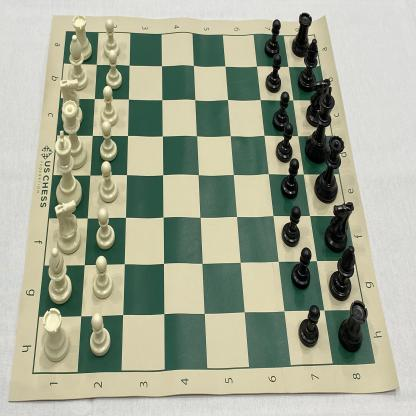black-bishop: (329, 245, 356, 300), (299, 37, 320, 93)
black-king: (305, 89, 336, 164)
black-knight: (323, 200, 355, 250), (305, 77, 333, 127)
black-pawn: (288, 245, 314, 292), (297, 304, 322, 350), (279, 204, 301, 247), (278, 158, 300, 199), (272, 90, 292, 132), (275, 123, 295, 164), (264, 17, 281, 59), (266, 53, 283, 93)
black-queen: (314, 132, 346, 205)
black-rook: (337, 300, 369, 354), (290, 8, 313, 60)
white-bishop: (46, 247, 73, 305), (66, 34, 89, 90)
white-king: (52, 128, 82, 209)
white-knight: (52, 199, 80, 254), (58, 78, 85, 125)
white-pawn: (86, 312, 112, 357), (90, 255, 113, 301), (94, 206, 116, 251), (97, 160, 119, 204), (98, 120, 119, 160), (103, 50, 122, 92), (98, 85, 117, 127), (101, 17, 120, 58)
white-queen: (60, 99, 87, 170)
white-rook: (40, 307, 70, 363), (70, 11, 93, 61)
